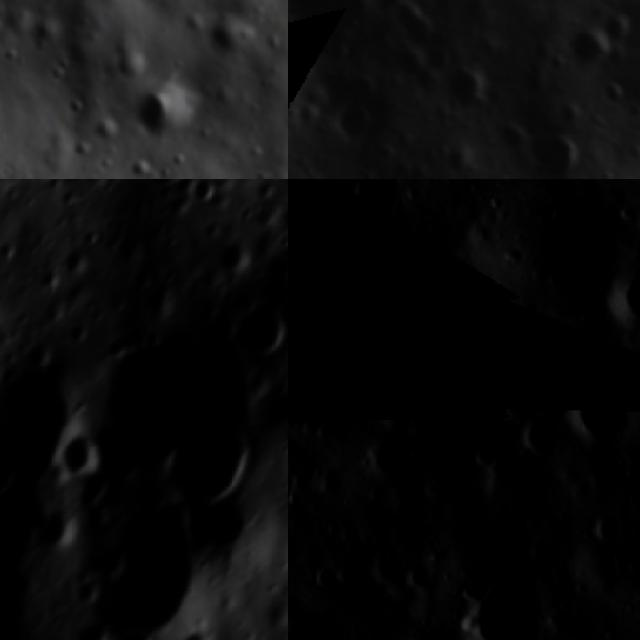crater: (81, 338, 256, 507), (332, 215, 470, 362), (75, 494, 196, 640), (0, 358, 66, 495), (460, 562, 560, 640), (456, 278, 538, 369), (560, 360, 640, 452), (174, 422, 254, 512), (476, 429, 550, 502), (448, 380, 514, 445), (364, 424, 430, 489), (227, 295, 288, 361), (486, 359, 547, 420), (373, 366, 431, 425), (597, 251, 640, 330), (300, 238, 358, 296), (138, 78, 185, 143), (288, 594, 354, 640), (512, 406, 566, 461), (339, 179, 413, 219), (580, 499, 638, 548), (365, 546, 417, 599), (534, 120, 578, 179), (389, 611, 474, 640), (332, 102, 387, 141), (202, 21, 262, 55), (288, 446, 309, 530), (62, 427, 98, 472), (567, 31, 612, 63), (216, 242, 253, 272), (598, 78, 635, 103), (121, 179, 192, 192), (186, 180, 218, 203), (263, 249, 288, 278), (179, 626, 221, 640), (114, 632, 159, 640)
